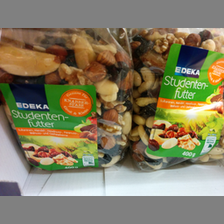nuts: (1, 28, 133, 171), (130, 29, 224, 173)
